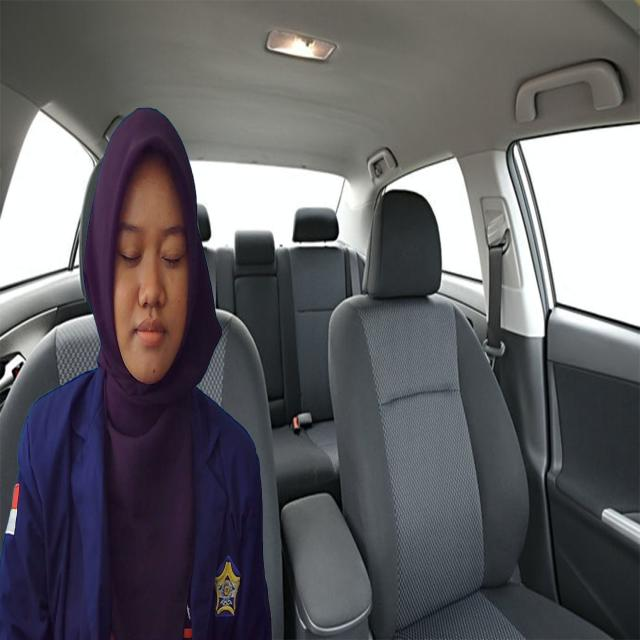no-seatbelt: (104, 135, 196, 395)
